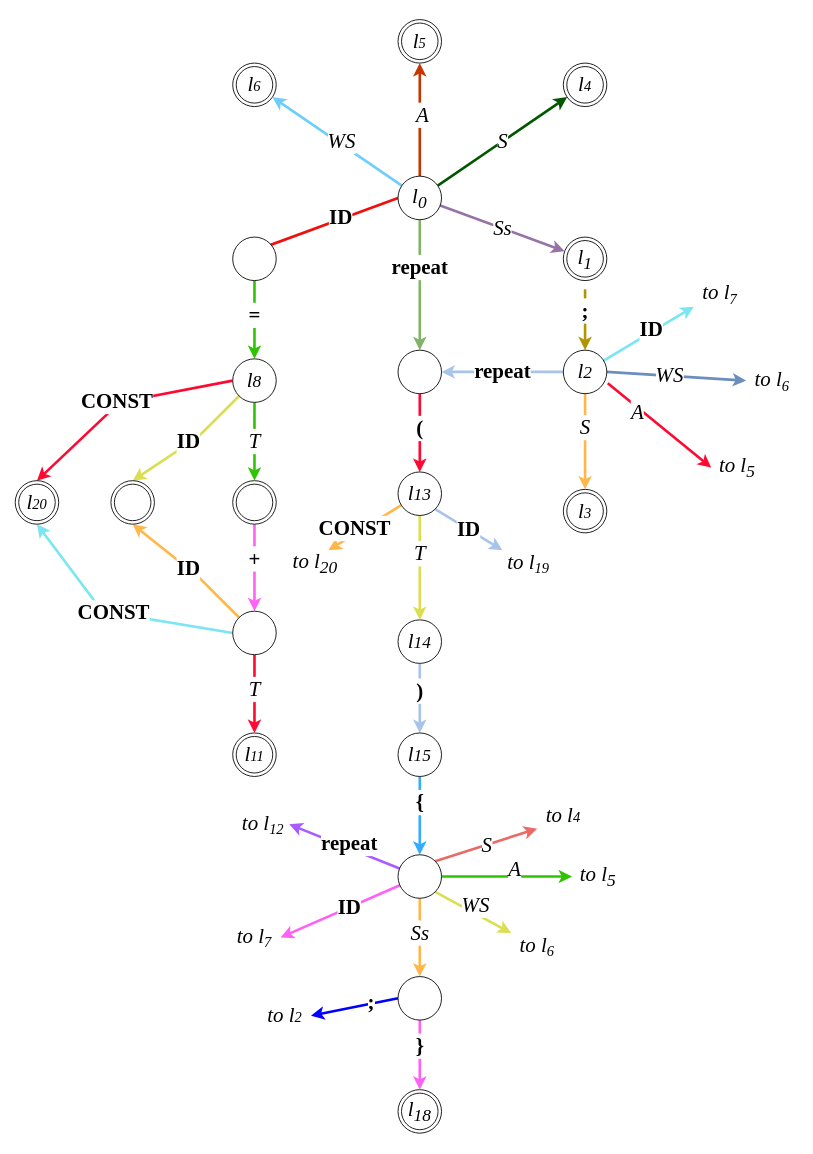
The diagram is 813 pixels wide and 1154 high, and some of its shapes have lost their labels. Here are the shapes that lost their labels. From the top down, the centre of each, then its label:
At point 254,258: "l 7".
At point 419,371: "l 12".
At point 132,502: "l 19".
At point 254,502: "l 9".
At point 254,632: "l 10".
At point 419,876: "l 16".
At point 419,998: "l 17".
